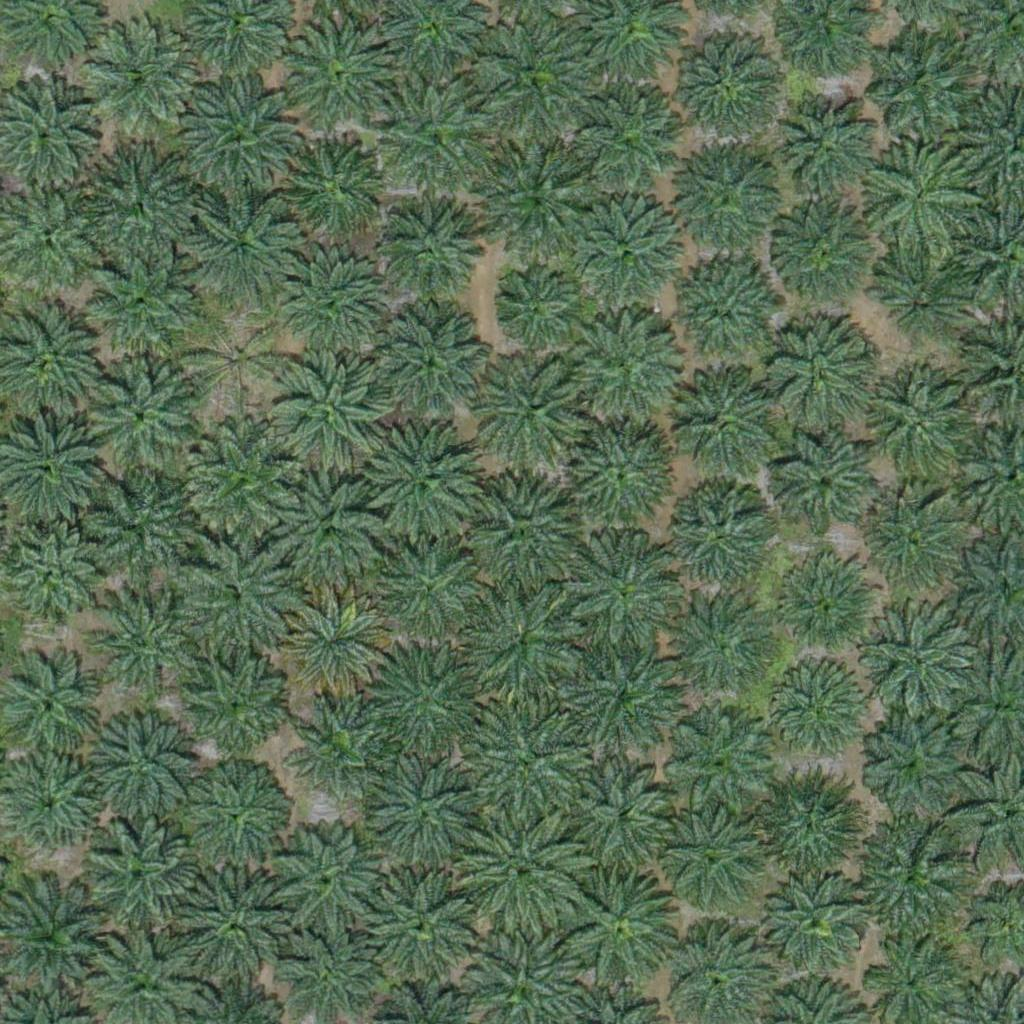Kelapa_Sawit: (561, 84, 686, 210), (475, 141, 600, 267), (459, 582, 584, 708), (465, 701, 590, 827), (459, 804, 584, 929), (570, 419, 683, 533), (476, 353, 589, 467), (562, 534, 675, 648), (280, 16, 393, 130), (375, 306, 488, 420), (567, 873, 680, 986), (178, 870, 291, 983), (864, 373, 977, 486), (767, 202, 880, 315), (762, 324, 875, 437), (669, 32, 782, 145), (670, 145, 783, 258), (859, 604, 972, 717), (653, 800, 766, 913), (567, 759, 680, 872), (569, 640, 682, 753), (462, 478, 575, 591), (363, 423, 476, 536), (80, 471, 193, 584), (88, 363, 201, 476), (84, 246, 197, 359), (78, 148, 191, 261), (184, 424, 297, 537), (378, 76, 491, 189), (278, 589, 391, 702), (275, 822, 388, 935), (180, 542, 293, 655), (176, 647, 289, 760), (848, 814, 960, 928), (753, 765, 865, 879), (659, 701, 771, 815), (84, 17, 196, 131), (184, 77, 296, 191), (279, 254, 391, 368), (867, 32, 979, 145), (668, 263, 780, 376), (665, 371, 777, 484), (569, 199, 681, 312), (568, 310, 680, 423), (477, 21, 589, 134), (375, 533, 487, 646), (365, 642, 477, 755), (365, 753, 477, 866), (364, 865, 476, 978), (186, 189, 298, 302), (271, 473, 383, 586), (272, 351, 384, 464), (88, 587, 200, 700), (84, 819, 196, 932), (187, 311, 287, 412), (870, 149, 970, 250), (876, 243, 976, 344), (864, 490, 964, 591), (781, 96, 881, 197), (772, 430, 872, 531), (4, 529, 104, 630), (186, 767, 286, 868), (93, 712, 193, 813), (1, 661, 101, 762), (765, 872, 865, 972), (667, 484, 767, 584), (867, 712, 967, 812), (772, 556, 872, 656), (768, 663, 868, 763), (673, 595, 773, 695), (282, 138, 382, 238), (381, 196, 481, 296), (2, 754, 102, 854), (296, 704, 383, 793), (495, 272, 570, 348)
